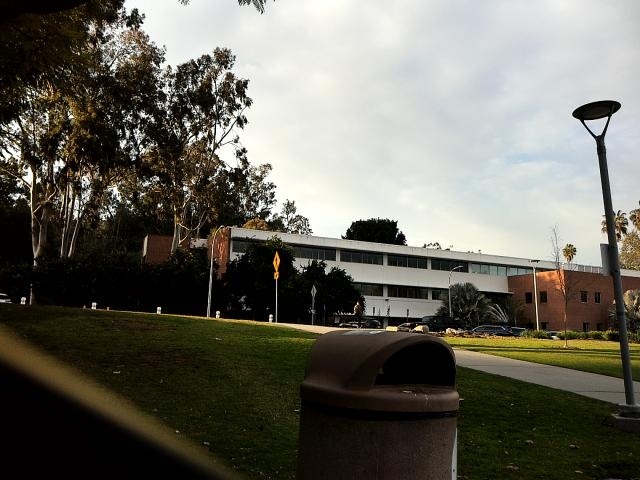trashcan: (301, 318, 466, 480)
